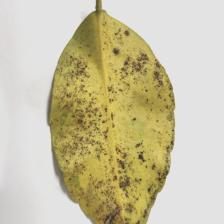canker: (62, 67, 162, 208)
